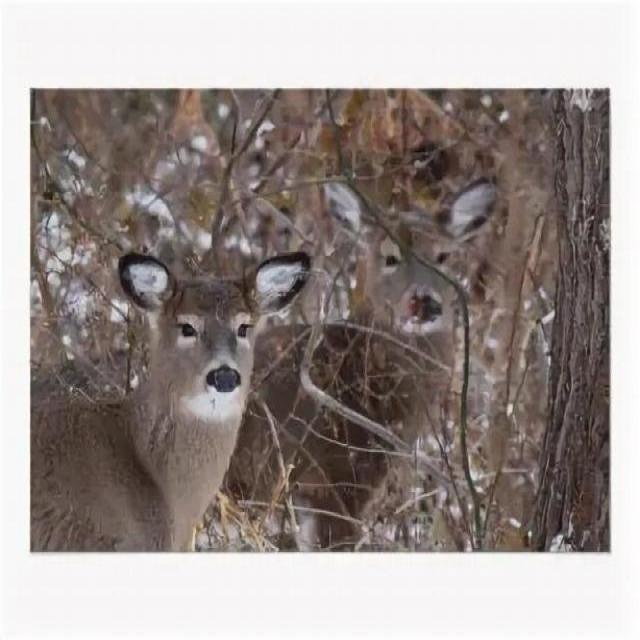deer: (245, 156, 506, 544), (13, 224, 290, 567)
